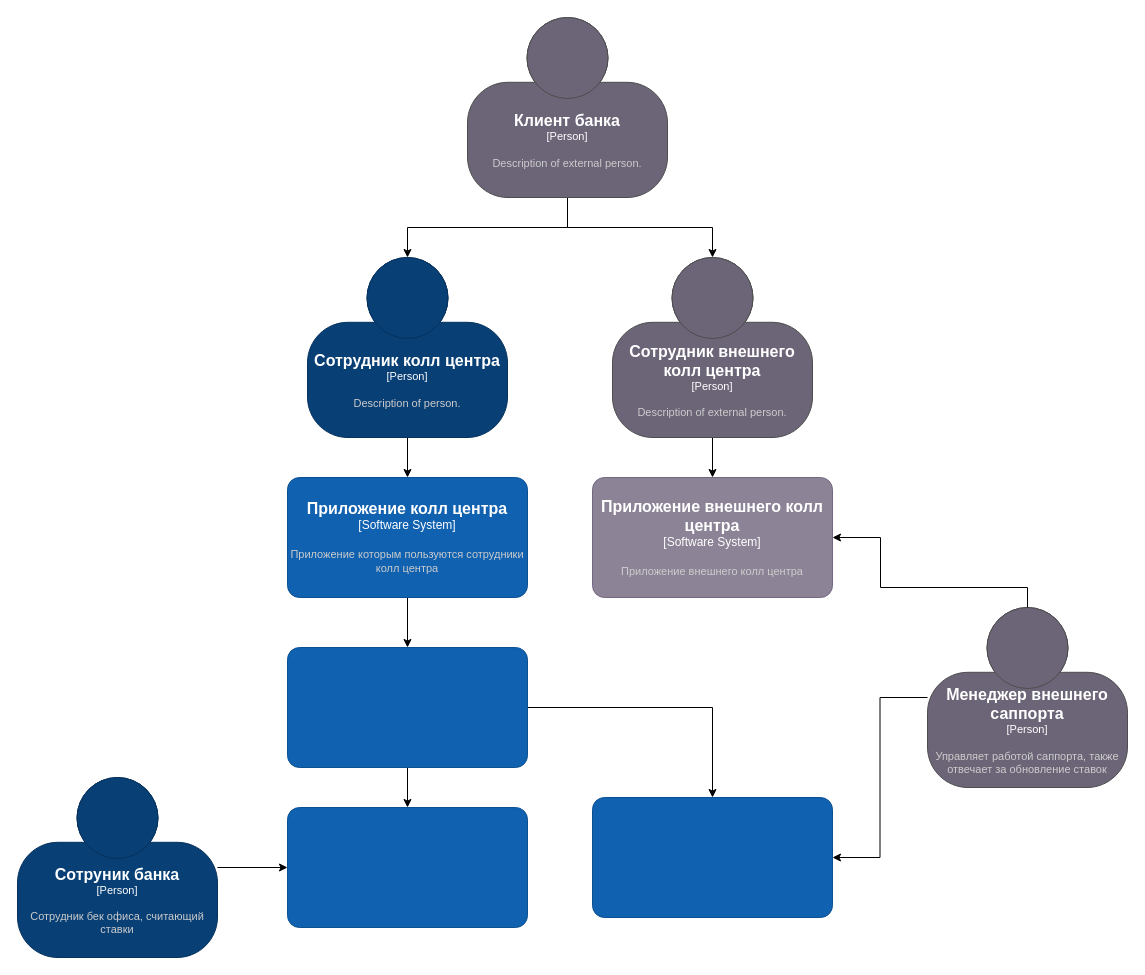
Some shapes in this 1145 by 975 pixel diagram are drawn without their labels. The centre of each missing label's shape, as x and y in pixels:
SFTP [Software System] Сервер для хранения файлов: (x=712, y=857)
АБС [Software System] Приложение используемое для работы банка: (x=407, y=867)
Интернет банк [Software System] Приложение отвечающие за бекенд интернет банка: (x=407, y=707)
